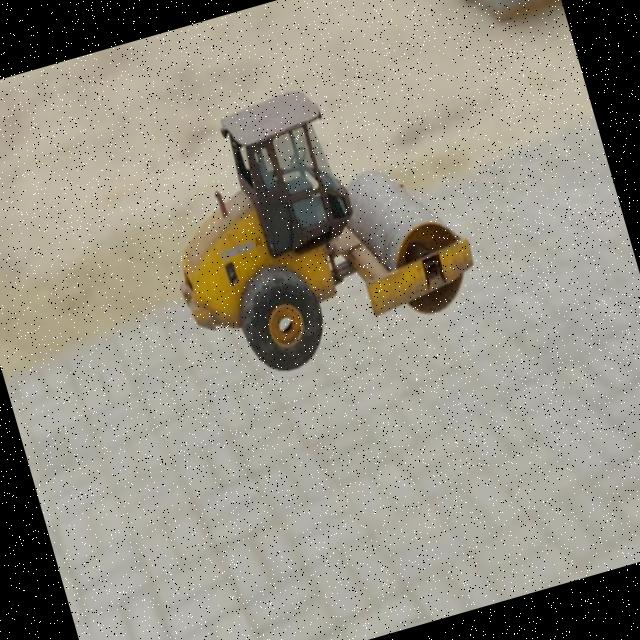Roller: (135, 54, 489, 392)
